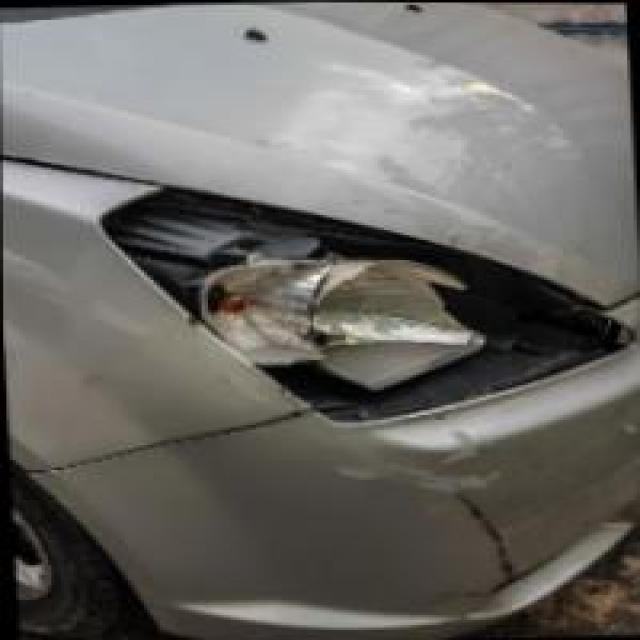Light: (83, 155, 639, 425)
